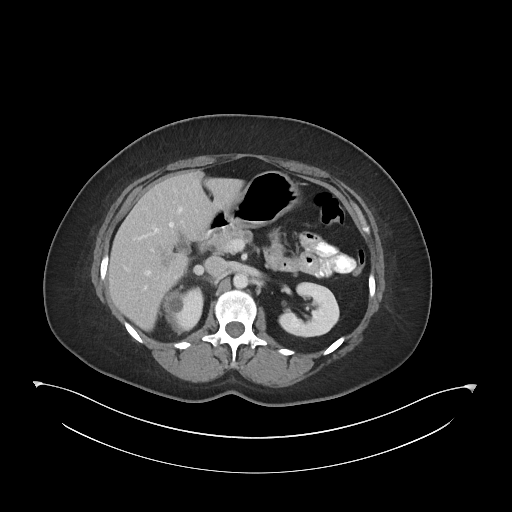Lesion: (166, 296, 183, 312)
